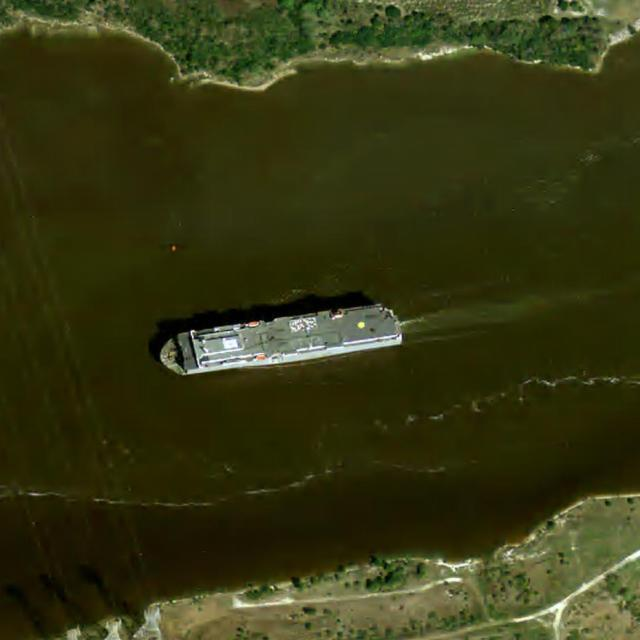RoRo: (149, 294, 410, 383)
